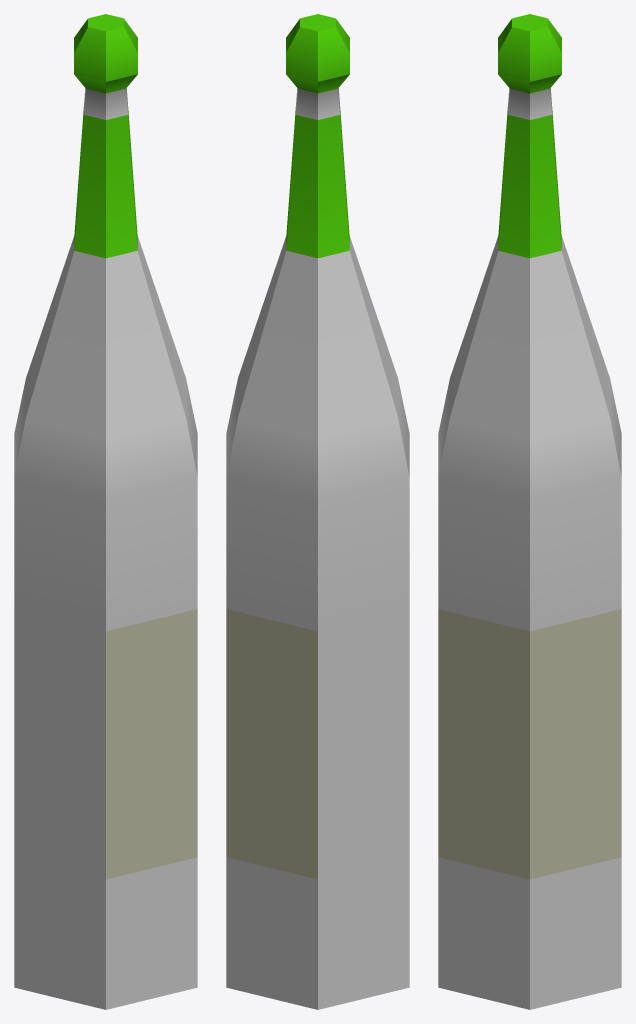
Rendered from SauceBotle.fbx.
3 views of the same model, side by side, from view 1: azimuth 30°, elevation 25°; view 2: azimuth 150°, elevation 25°; view 3: azimuth 270°, elevation 25° (orthographic).
Visible parts, largest first — view 1: SauceBottle; view 2: SauceBottle; view 3: SauceBottle.
Boxes of the visible parts, x1,y1,x2,y2 form: SauceBottle: (14,14,197,1009); SauceBottle: (226,14,409,1009); SauceBottle: (438,14,621,1009).
Size of the model in its own units: 5.36 by 26.33 by 4.64.
